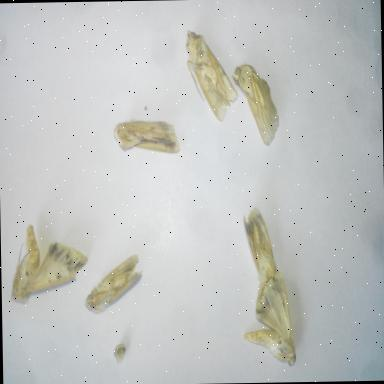abw: (5, 218, 91, 310), (236, 266, 302, 370), (181, 24, 242, 124), (230, 58, 284, 152), (82, 248, 146, 318), (237, 199, 280, 292), (110, 110, 186, 158)
